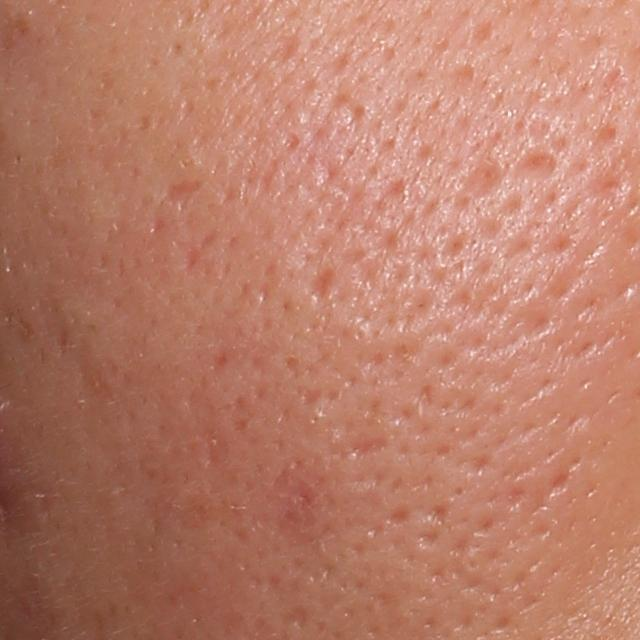atrophic_scar: (510, 143, 566, 186), (458, 153, 504, 201), (339, 428, 393, 466), (157, 174, 207, 214), (259, 34, 304, 72), (302, 264, 340, 306), (276, 599, 311, 630)
